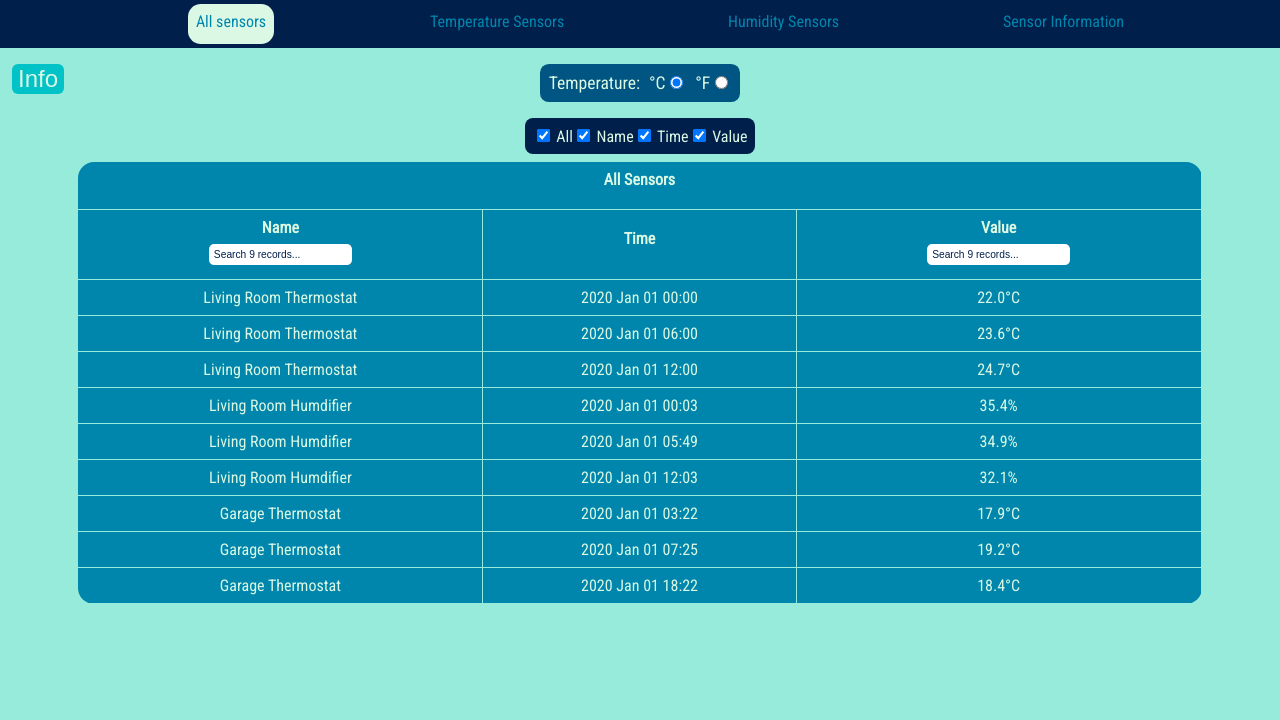
Test: Filtering › should filter results based on name correctly
Expected: the text "Garage Thermostat" next to "2020 Jan 01 03:22" is shown, [220,504,341,523]
Step 1. Click the 2nd element with class "searchBox" → [281, 255], box [209,244,352,265]
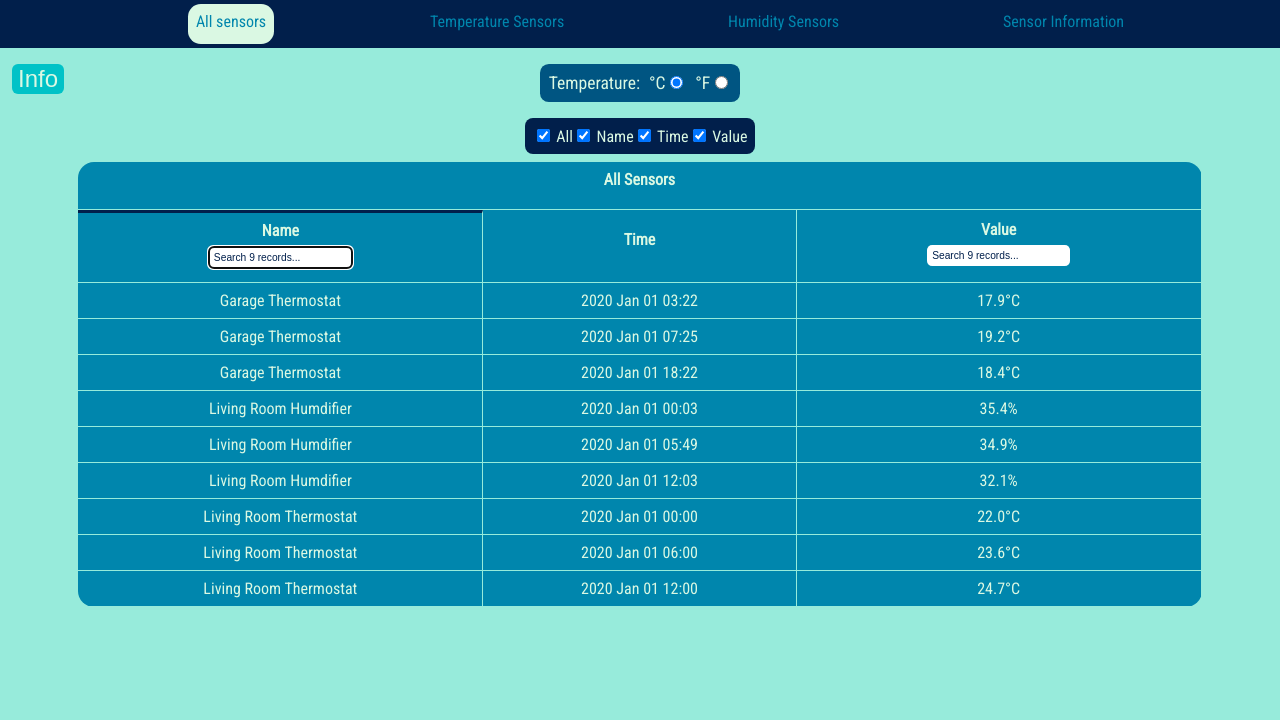
Step 2. Type "Living" into the 2nd element with class "searchBox" → [281, 258], box [209,247,352,268]
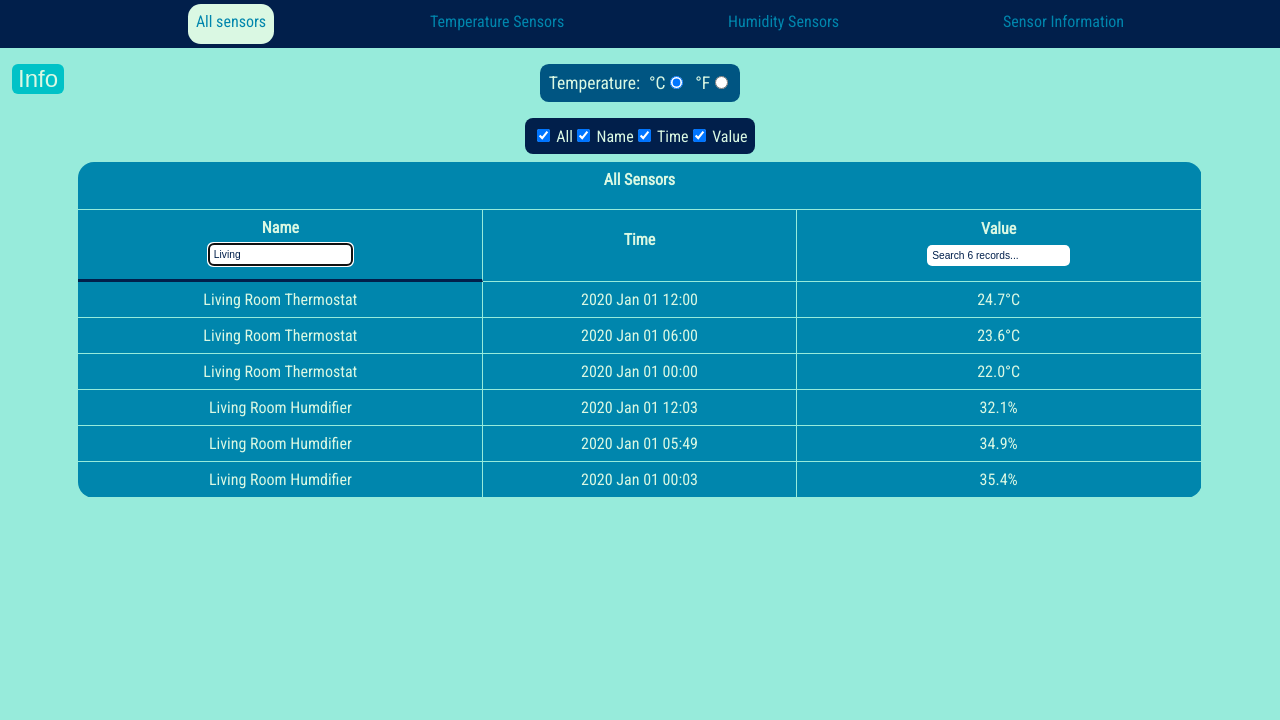
Expected: the text "Garage Thermostat" is gone
